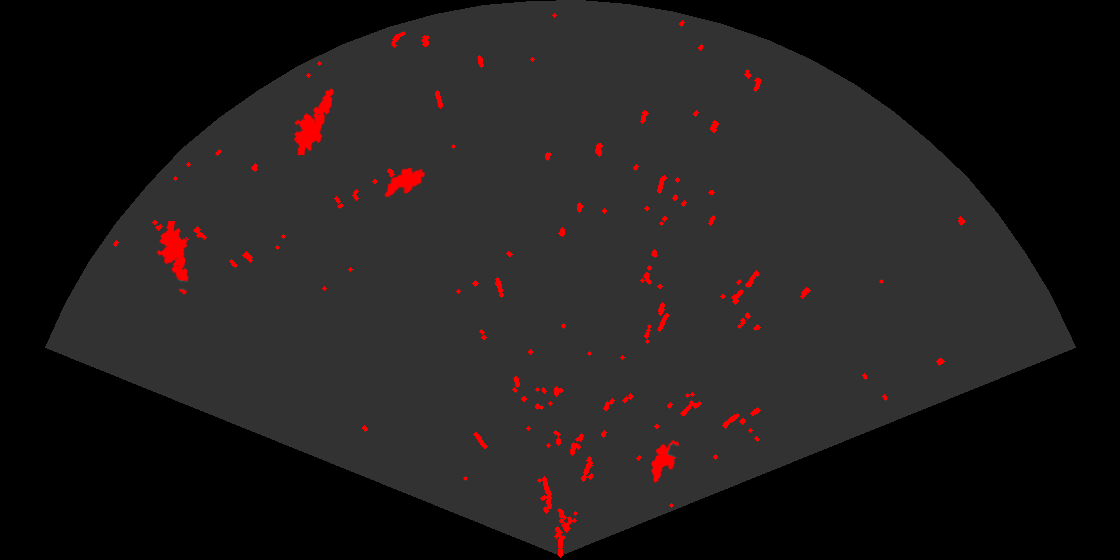AUV: (383, 166, 427, 199), (650, 438, 681, 484)
frogman: (292, 87, 335, 155), (155, 221, 190, 296)
